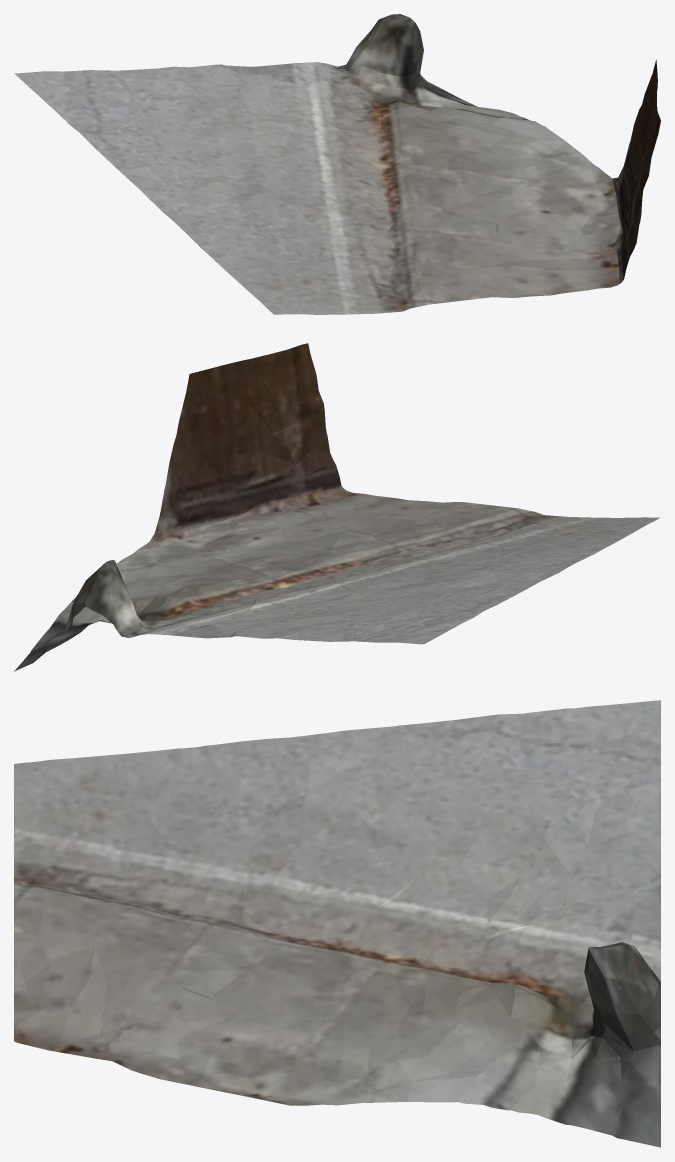
3 views of the same model, one above another, from view 1: azimuth 30°, elevation 25°; view 2: azimuth 150°, elevation 25°; view 3: azimuth 270°, elevation 25° (orthographic). The views are drawn at different scales.
Bounding box in the file's own units: 3.35 × 1.32 × 3.35.
3 materials, 3 textured.
